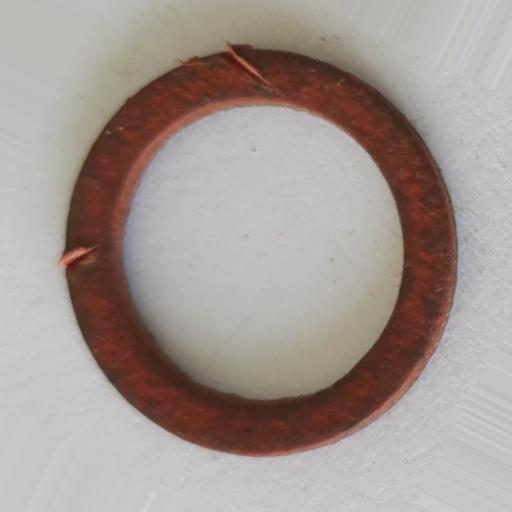defect: (219, 41, 271, 91), (57, 245, 102, 273)
